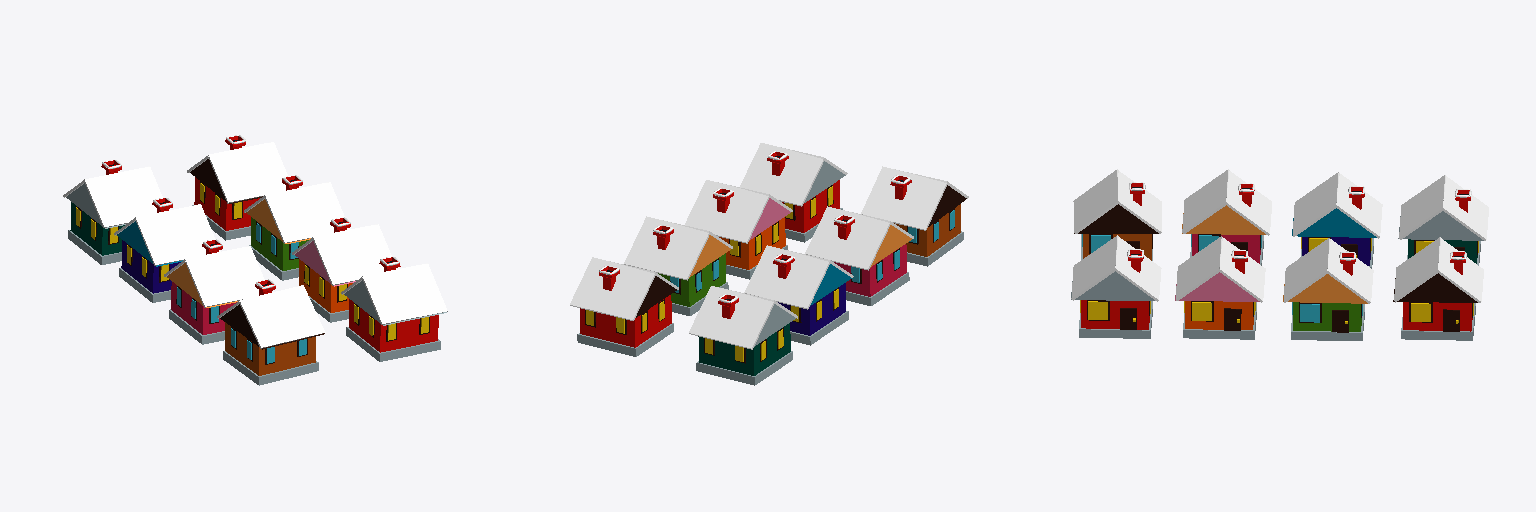
3 views of the same model, side by side, from view 1: azimuth 30°, elevation 25°; view 2: azimuth 150°, elevation 25°; view 3: azimuth 270°, elevation 25° (orthographic).
Visible parts, largest first — view 1: group[number redacted], group[number redacted], group[number redacted], group[number redacted], group[number redacted], group[number redacted], group[number redacted], group[number redacted]; view 2: group[number redacted], group[number redacted], group[number redacted], group[number redacted], group[number redacted], group[number redacted], group[number redacted], group[number redacted]; view 3: group[number redacted], group[number redacted], group[number redacted], group[number redacted], group[number redacted], group[number redacted], group[number redacted], group[number redacted].
Boxes of the visible parts, box(x1,y1,x2,y2) form: group[number redacted]: box(217, 279, 325, 385); group[number redacted]: box(341, 257, 447, 361); group[number redacted]: box(164, 239, 264, 344); group[number redacted]: box(187, 135, 287, 240); group[number redacted]: box(114, 198, 220, 302); group[number redacted]: box(63, 160, 162, 264); group[number redacted]: box(244, 175, 349, 280); group[number redacted]: box(292, 217, 396, 322); group[number redacted]: box(689, 286, 797, 385); group[number redacted]: box(570, 257, 678, 356); group[number redacted]: box(805, 206, 913, 305); group[number redacted]: box(744, 245, 853, 345); group[number redacted]: box(861, 166, 968, 266); group[number redacted]: box(624, 216, 732, 315); group[number redacted]: box(685, 180, 792, 279); group[number redacted]: box(740, 143, 847, 242); group[number redacted]: box(1393, 237, 1483, 340); group[number redacted]: box(1175, 236, 1265, 339); group[number redacted]: box(1071, 235, 1161, 338); group[number redacted]: box(1283, 238, 1373, 340); group[number redacted]: box(1182, 169, 1271, 265); group[number redacted]: box(1292, 172, 1382, 268); group[number redacted]: box(1073, 169, 1161, 260); group[number redacted]: box(1398, 175, 1488, 265).
Size of the model in its own units: 1.71 by 0.6749 by 3.14.